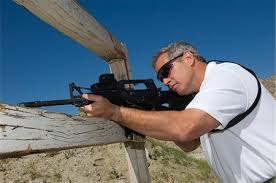Gun: (25, 70, 162, 110)
